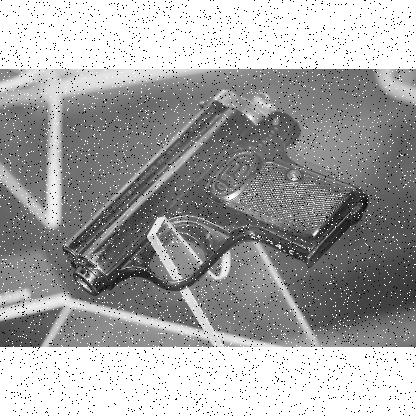gun: (64, 88, 370, 296)
